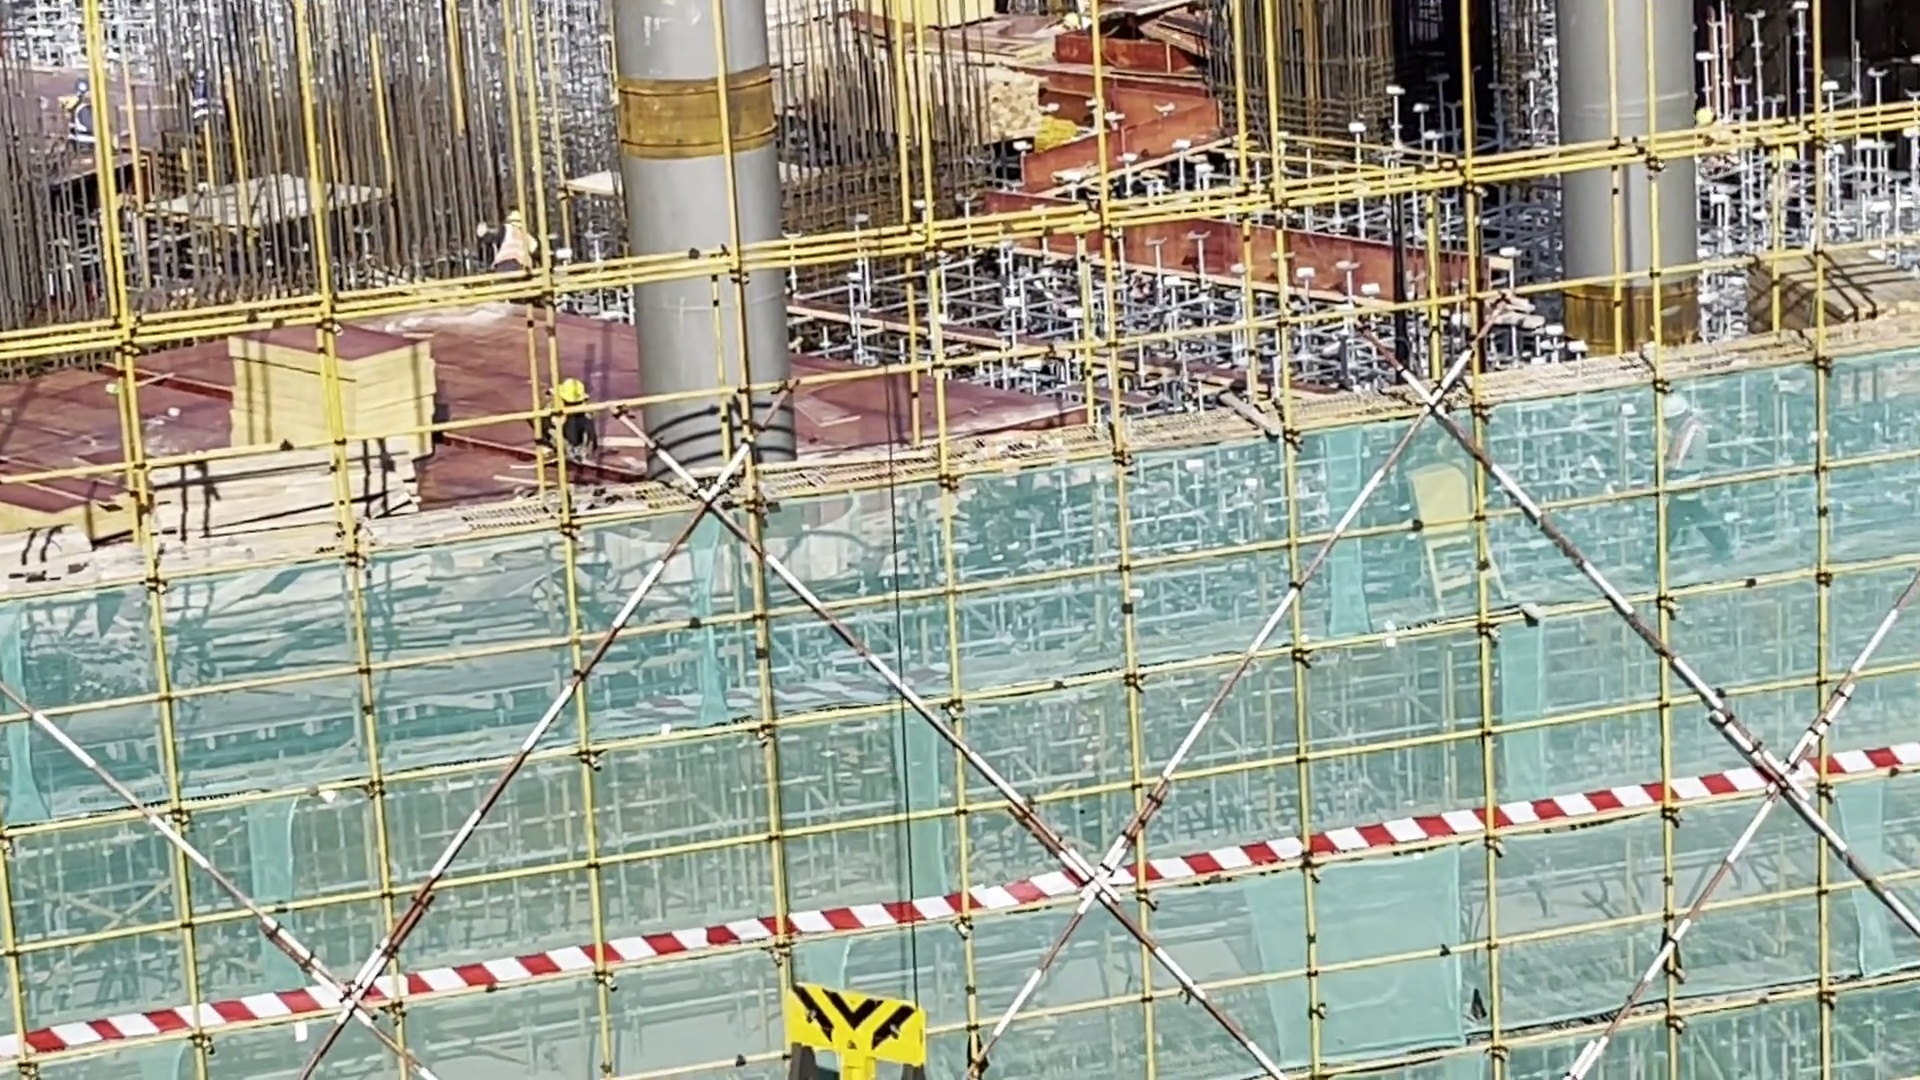board: (227, 319, 442, 451)
hook: (783, 988, 935, 1080)
person: (474, 203, 544, 272), (542, 377, 598, 464)
wood: (1750, 258, 1920, 397)
